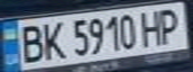0: (118, 11, 142, 50)
1: (103, 12, 124, 52)
5: (66, 16, 90, 57)
9: (87, 15, 106, 55)
B: (12, 21, 48, 64)
H: (136, 7, 166, 47)
K: (36, 19, 69, 61)
P: (154, 4, 187, 45)
